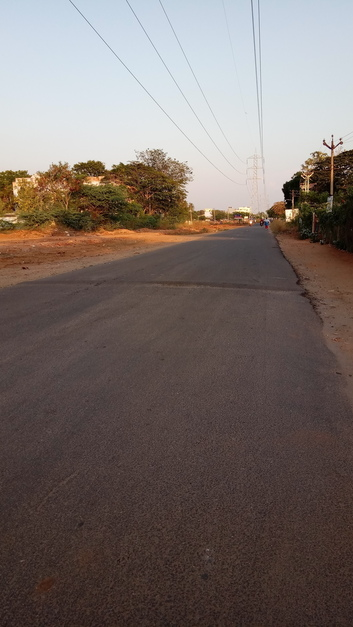bump: (18, 274, 306, 295)
